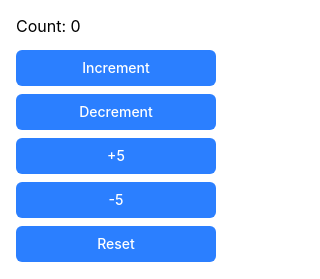
Test case: Count › adds 5 when +5 is clicked
Click the button "+5".
click(116, 156)  # box [16,138,216,174]
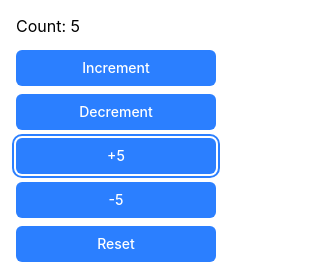
expect the text "Count: 5" is shown: met, box [16,16,80,36]
